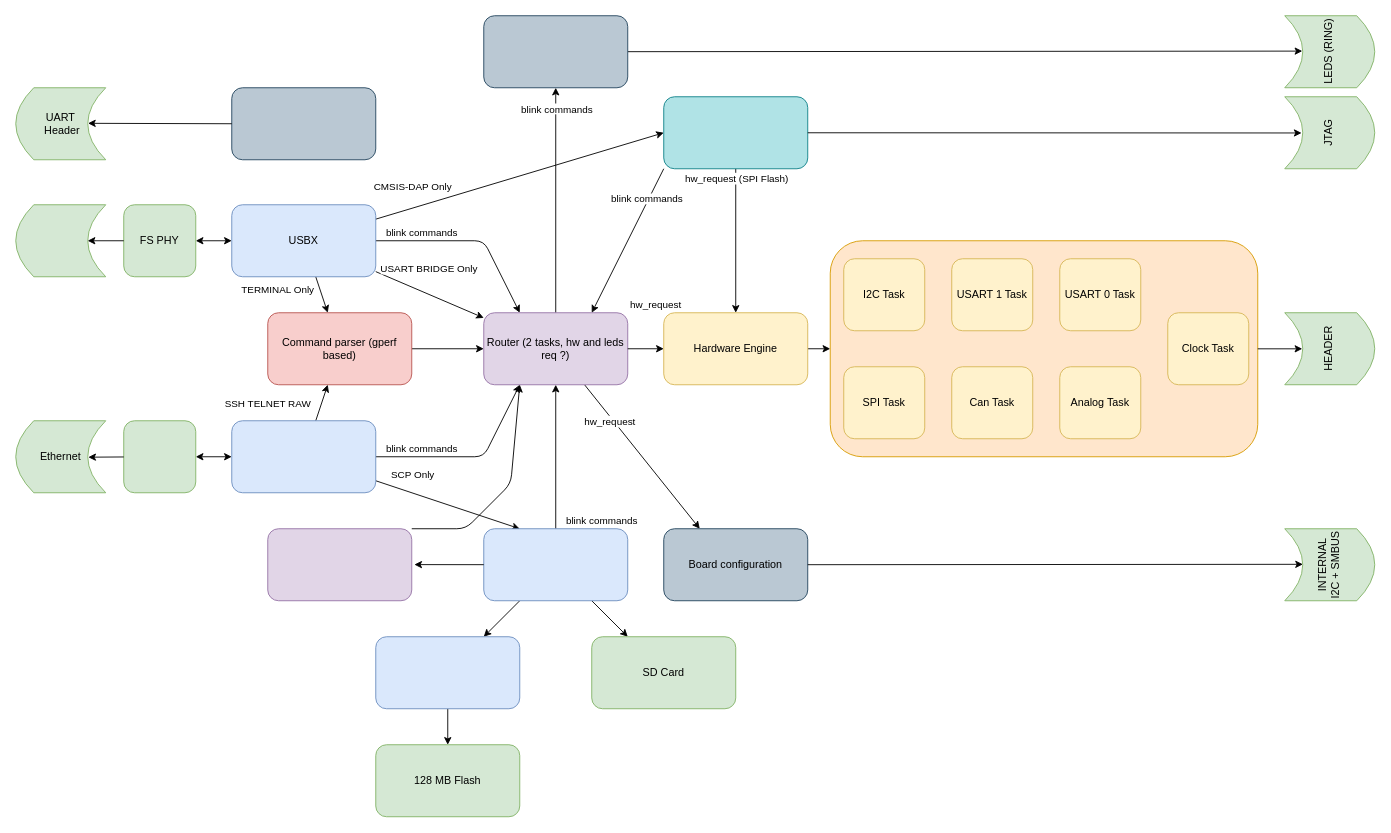
Some shapes in this 1391 by 833 pixel diagram are drawn without their labels. Here are the shapes that lost their labels. From the top down, the box of each, then its label:
(483, 15, 628, 88): Leds
(231, 87, 376, 160): Logger
(663, 96, 808, 169): Programmer (CMSIS DAP)
(15, 204, 106, 277): USBC
(829, 240, 1258, 457): Common C++ template
(123, 420, 196, 493): LAN8742 PHY
(231, 420, 376, 493): NetXDuo
(267, 528, 412, 601): Sequence engine
(483, 528, 628, 601): FileIO
(375, 636, 520, 709): LevelX
